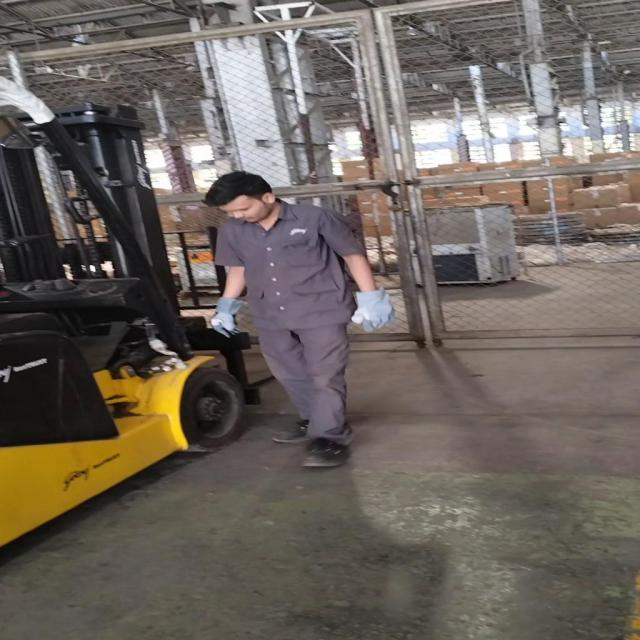Gloves-Detection: (347, 290, 397, 338), (211, 294, 241, 334)
